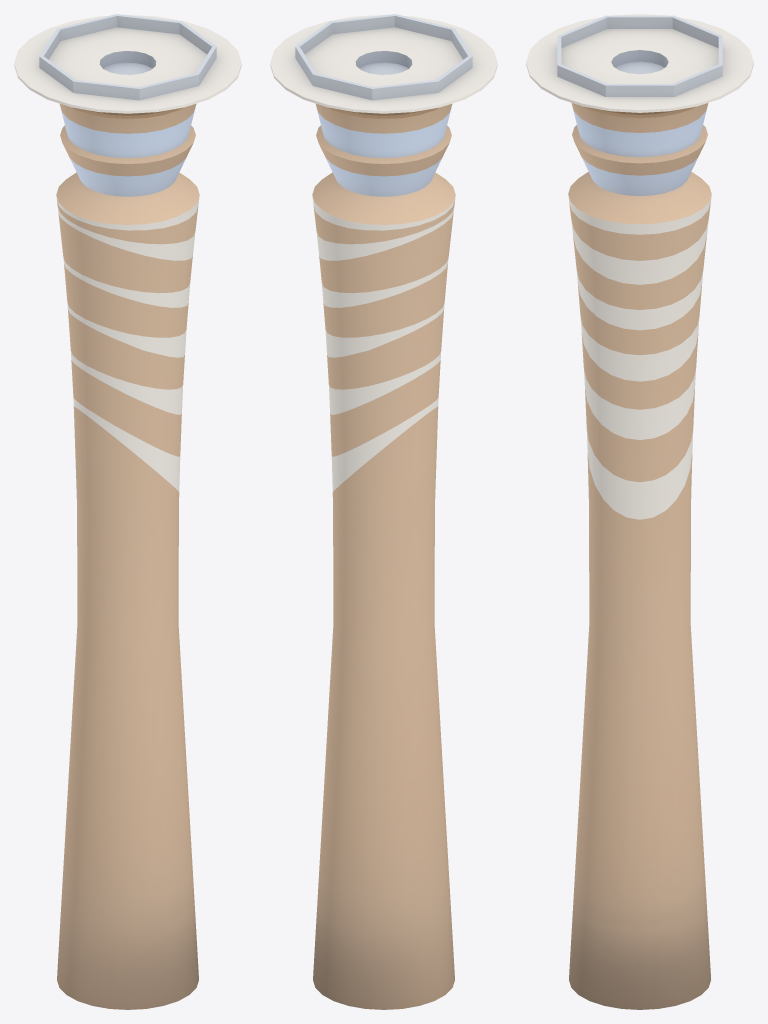
Rendered from kingabdulazizcontroltower2.glb.
3 renders of one model, left to right at view 1: azimuth 30°, elevation 25°; view 2: azimuth 150°, elevation 25°; view 3: azimuth 270°, elevation 25°, orthographic.
Visible parts, largest first — view 1: kingabdulazizcontroltower2; view 2: kingabdulazizcontroltower2; view 3: kingabdulazizcontroltower2.
Part boxes in pixels (x1,y1,x2,y2): kingabdulazizcontroltower2: (14,14,241,1009); kingabdulazizcontroltower2: (270,14,497,1009); kingabdulazizcontroltower2: (526,14,753,1009).
Size of the model in its own units: 27.37 by 123 by 27.37.
1 material, 1 textured.
